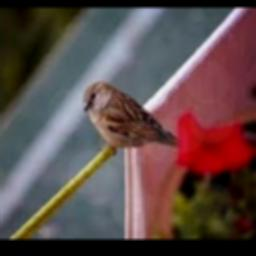Sparrow: (81, 81, 179, 156)
